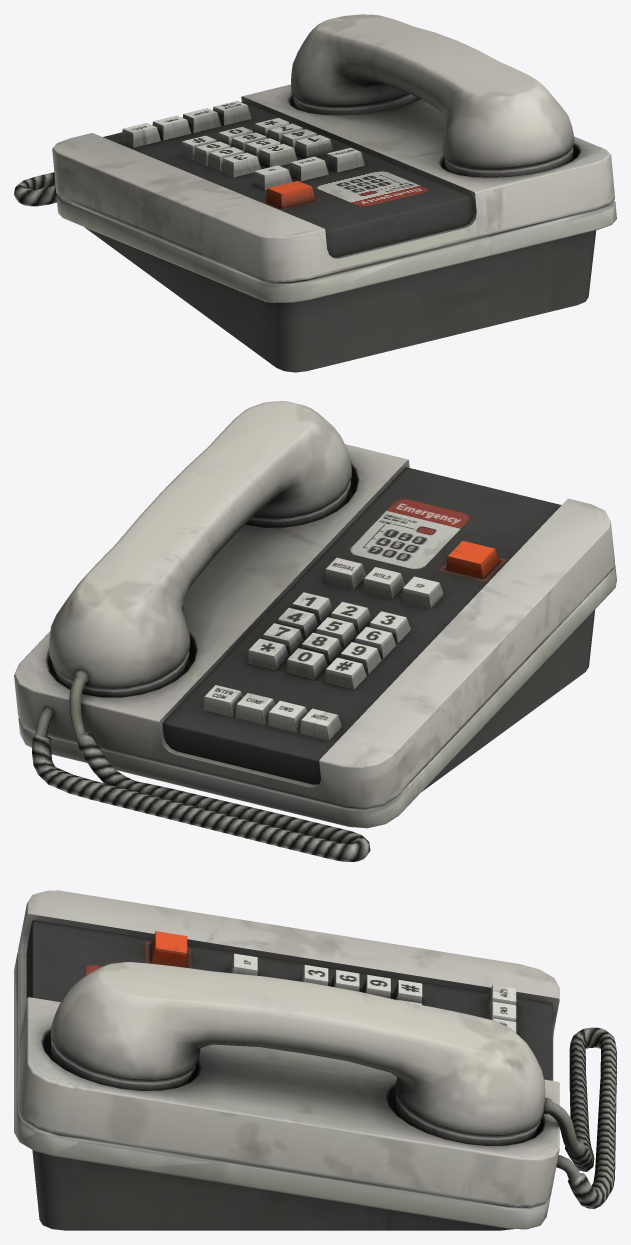
The model's file is office-phone.glb.
3 renders of one model, top to bottom at view 1: azimuth 30°, elevation 25°; view 2: azimuth 150°, elevation 25°; view 3: azimuth 270°, elevation 25°, orthographic. The views are drawn at different scales.
Visible parts, largest first — view 1: phone_a_0; view 2: phone_a_0; view 3: phone_a_0.
Part boxes in pixels (box(x1,y1,x2,y2)): phone_a_0: box(14, 14, 616, 372); phone_a_0: box(14, 401, 616, 861); phone_a_0: box(14, 890, 616, 1230).
Size of the model in its own units: 0.1723 by 0.0917 by 0.22.
1 material, 1 textured.
